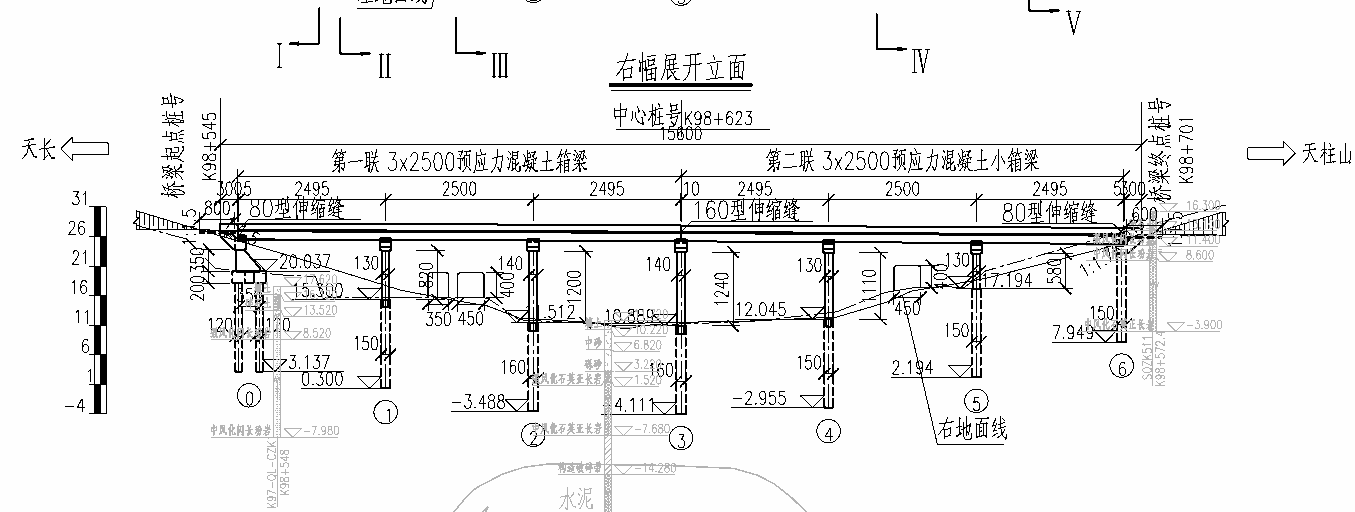C: (298, 231, 405, 433), (461, 232, 553, 452), (619, 233, 700, 457), (894, 239, 990, 419), (1042, 238, 1138, 386), (783, 234, 847, 450)
